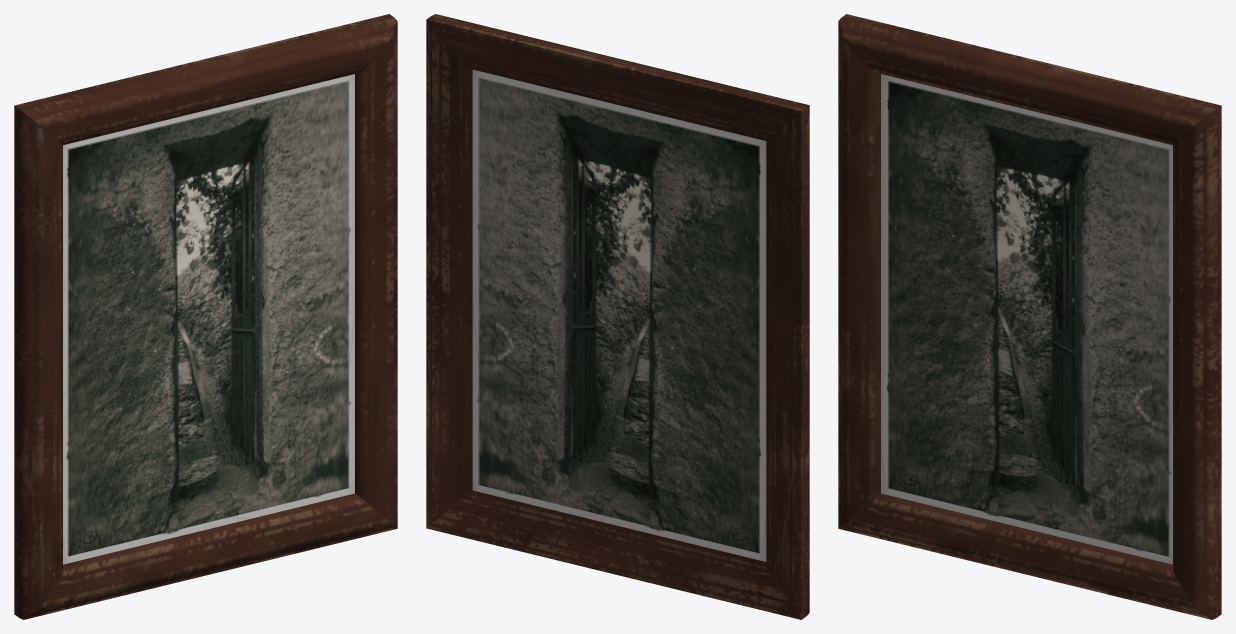
The model's file is Picture_12_Large_Framed.FBX.
3 renders of one model, left to right at view 1: azimuth 30°, elevation 25°; view 2: azimuth 150°, elevation 25°; view 3: azimuth 330°, elevation 25°, orthographic.
Parts seen in each view (by area): view 1: Picture_12_Large_Framed; view 2: Picture_12_Large_Framed; view 3: Picture_12_Large_Framed.
Part boxes in pixels (x1,y1,x2,y2): Picture_12_Large_Framed: (14,14,397,619); Picture_12_Large_Framed: (426,14,809,619); Picture_12_Large_Framed: (838,14,1221,619).
Size of the model in its own units: 73.53 by 95.26 by 4.49.
